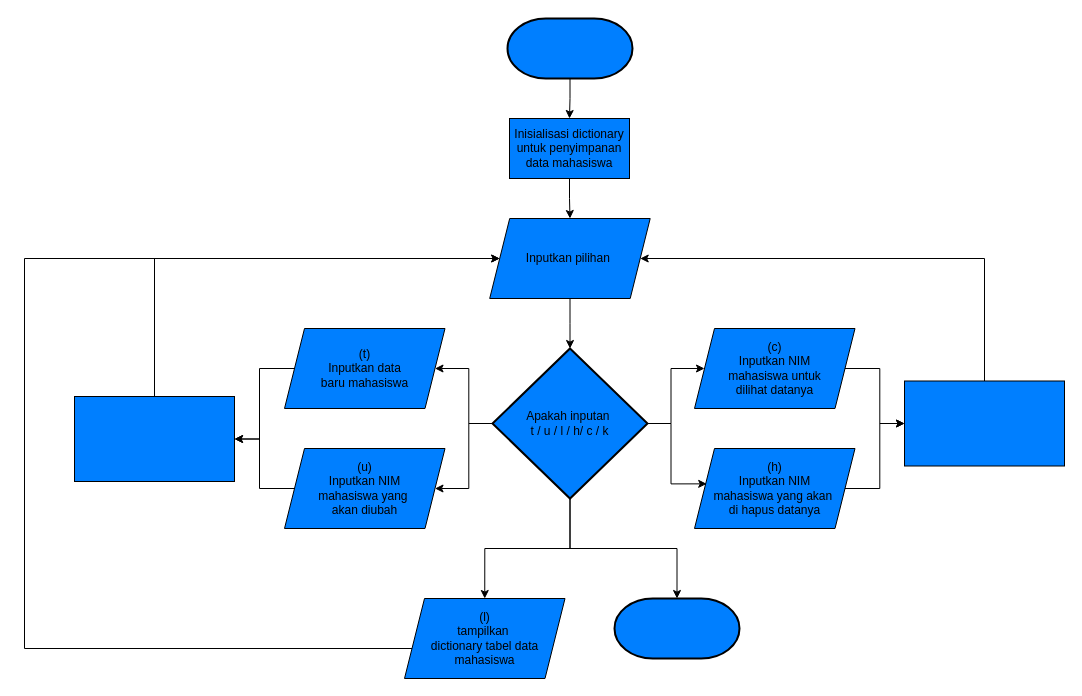
Some shapes in this 1082 by 696 pixel diagram are drawn without their labels. The centre of each missing label's shape, as x and y in pixels:
"(k) selesai" belongs at point 676,628.
"Mulai" belongs at point 569,48.
"Simpan data" belongs at point 154,439.
"Simpan data modifikasi" belongs at point 984,423.
